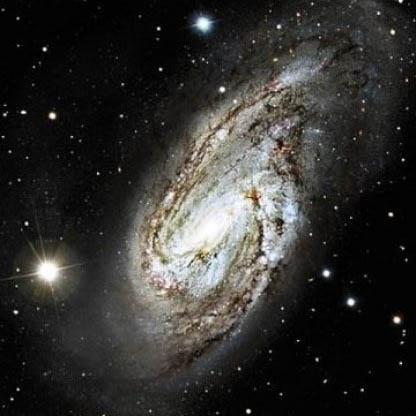Messier 66: (19, 15, 397, 386)
